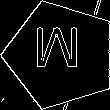M_S: (37, 30, 85, 80)
